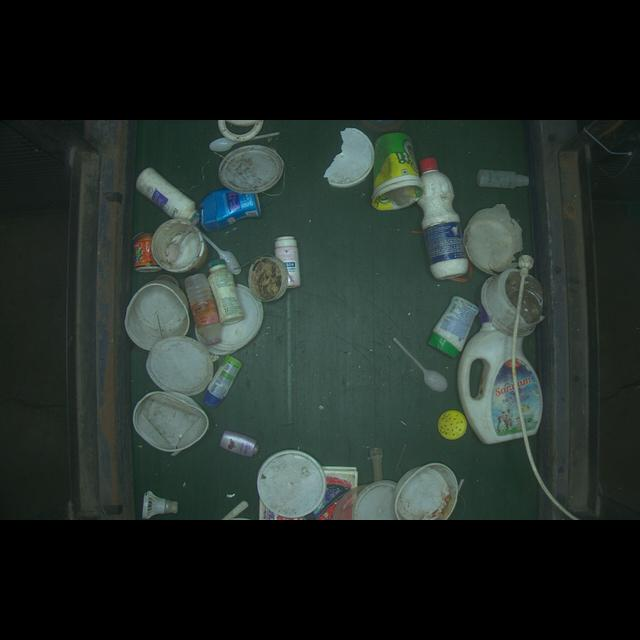PP: (455, 314, 549, 446), (427, 293, 478, 358)
